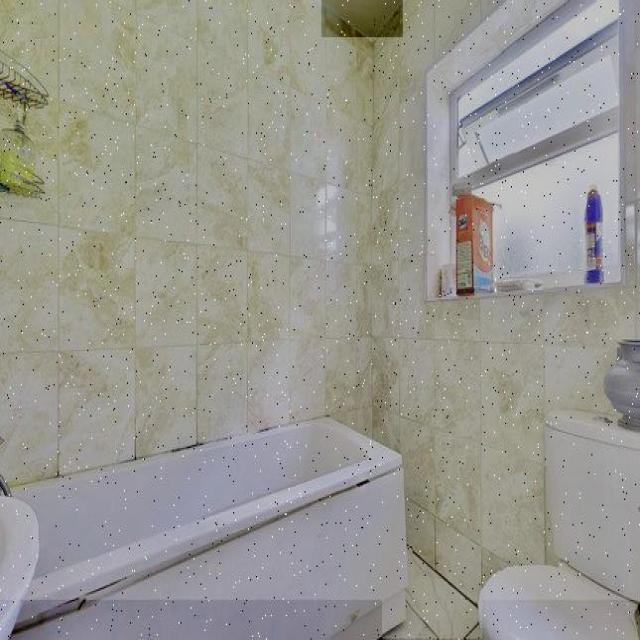Wall: (0, 0, 640, 600), (383, 547, 482, 639), (322, 1, 403, 37)
